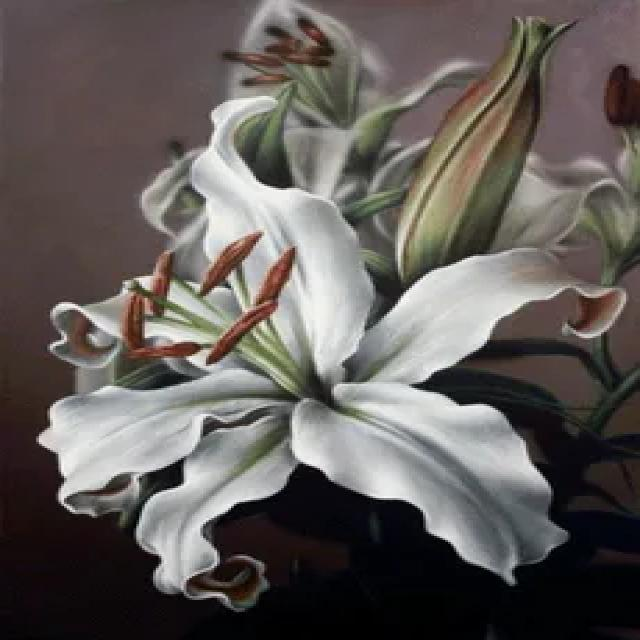lily: (17, 83, 640, 634)
